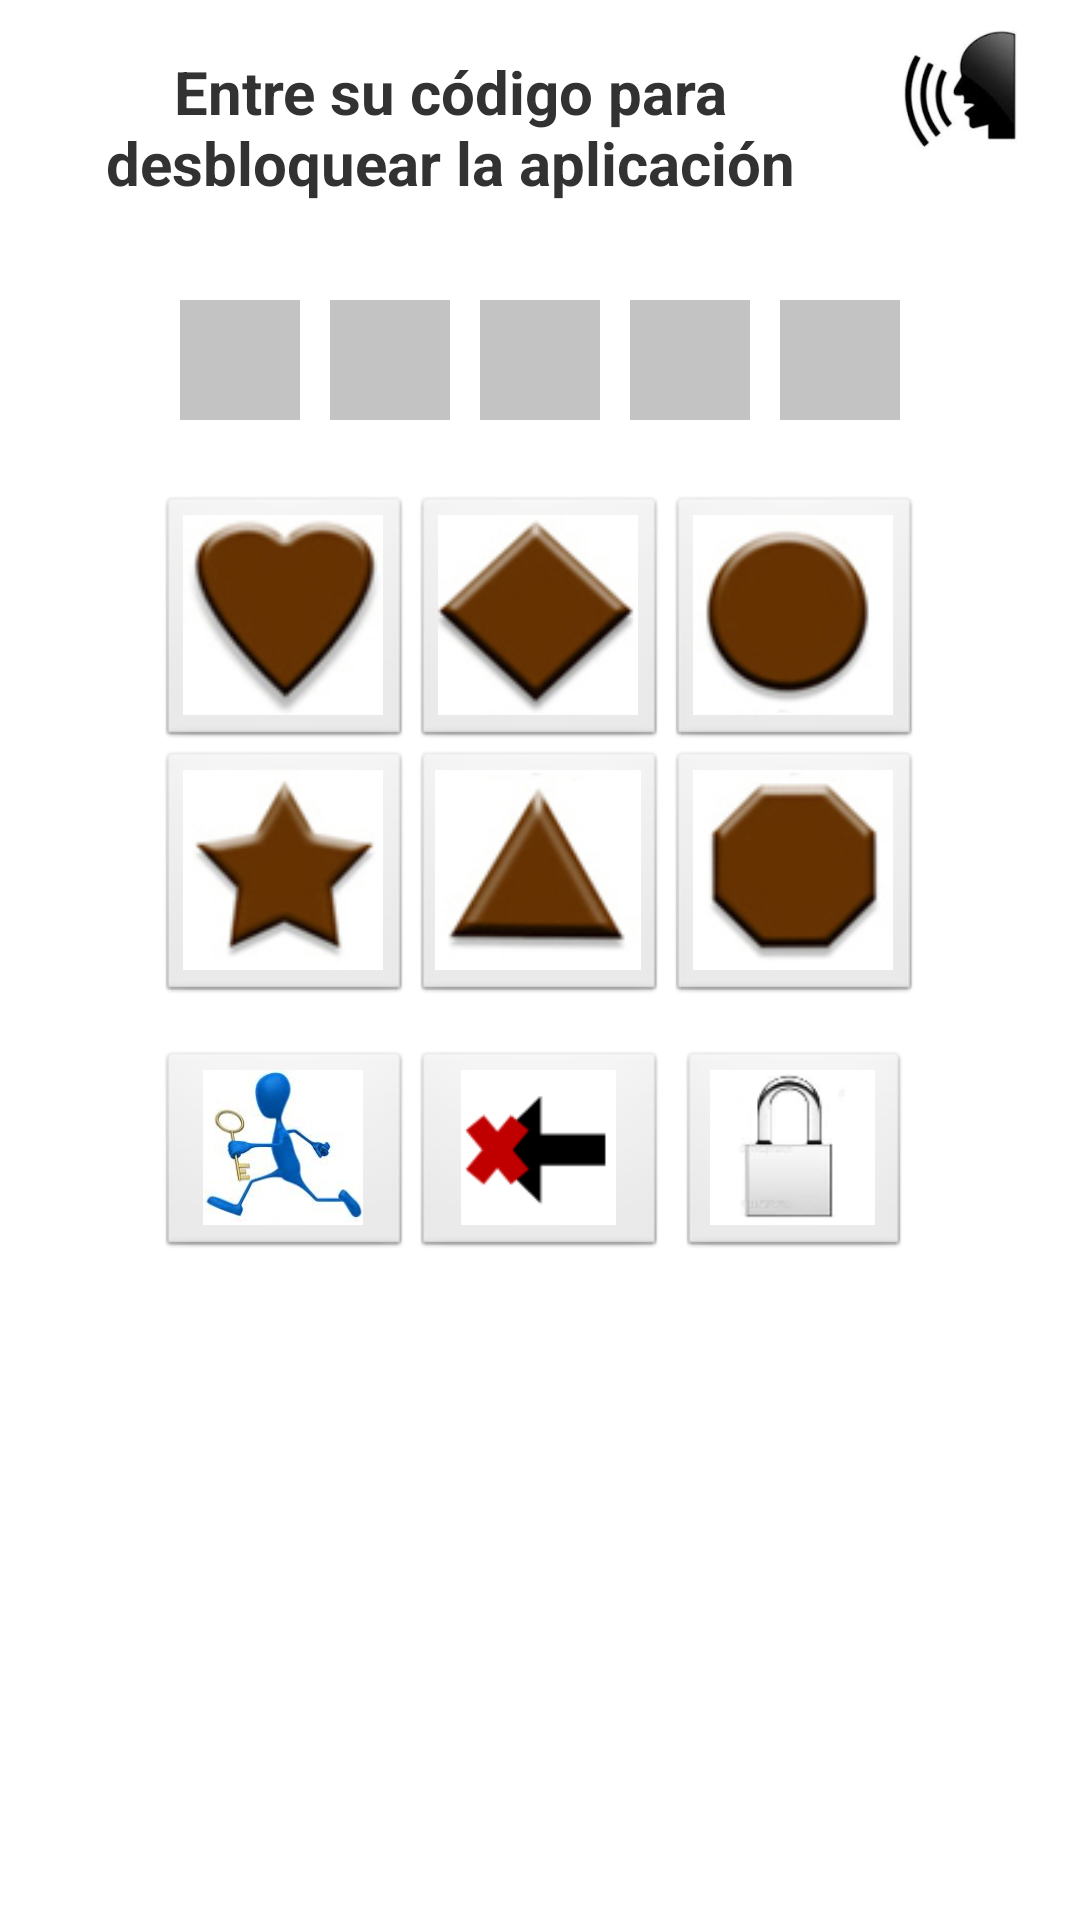

Screen size 1080px x 1920px. Icon name, then its box in pixels as (x1, y1, x2, y2):
Delete: (421, 1057, 657, 1246)
Login: (687, 1057, 901, 1246)
shape circle: (676, 502, 912, 736)
shape diamond: (421, 502, 657, 736)
shape heart: (165, 497, 403, 738)
shape octagon: (675, 752, 913, 993)
shape star: (166, 757, 402, 991)
shape triangle: (421, 757, 657, 991)
Sound Icon: (904, 31, 1016, 147)
